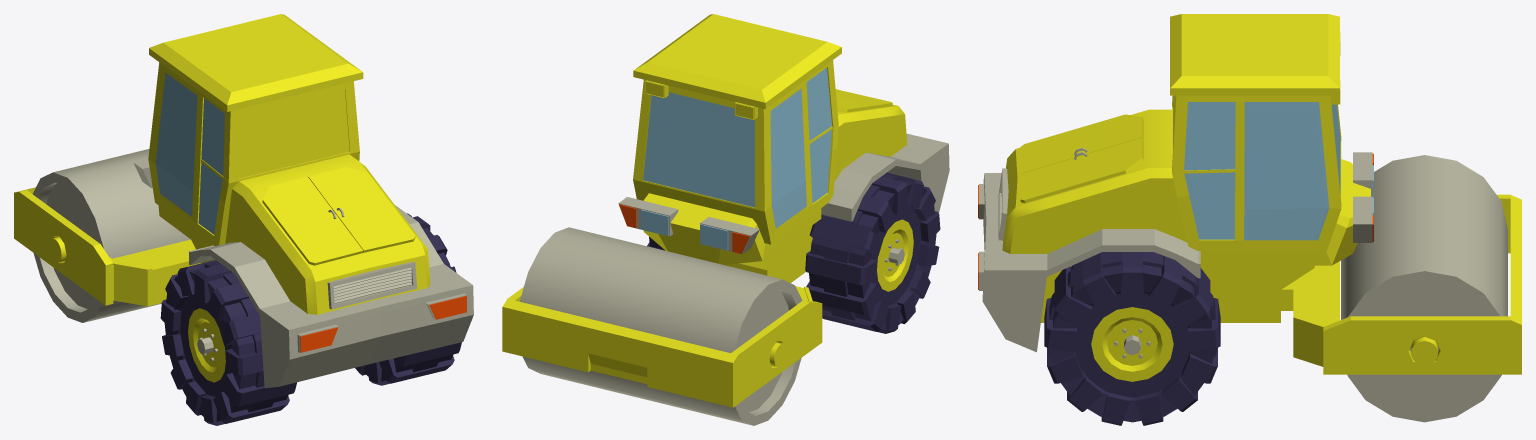
Rendered from roller.fbx.
The picture shows the model from 3 angles, left to right: view 1: azimuth 30°, elevation 25°; view 2: azimuth 150°, elevation 25°; view 3: azimuth 270°, elevation 25°; orthographic projection. The views are drawn at different scales.
Visible parts, largest first — view 1: Roller; view 2: Roller; view 3: Roller.
Boxes of the visible parts, box(x1,y1,x2,y2) form: Roller: box(14, 14, 473, 425); Roller: box(502, 14, 949, 425); Roller: box(978, 14, 1521, 425).
Size of the model in its own units: 366 by 651 by 427.
Materials: 1 (1 with a texture image).
